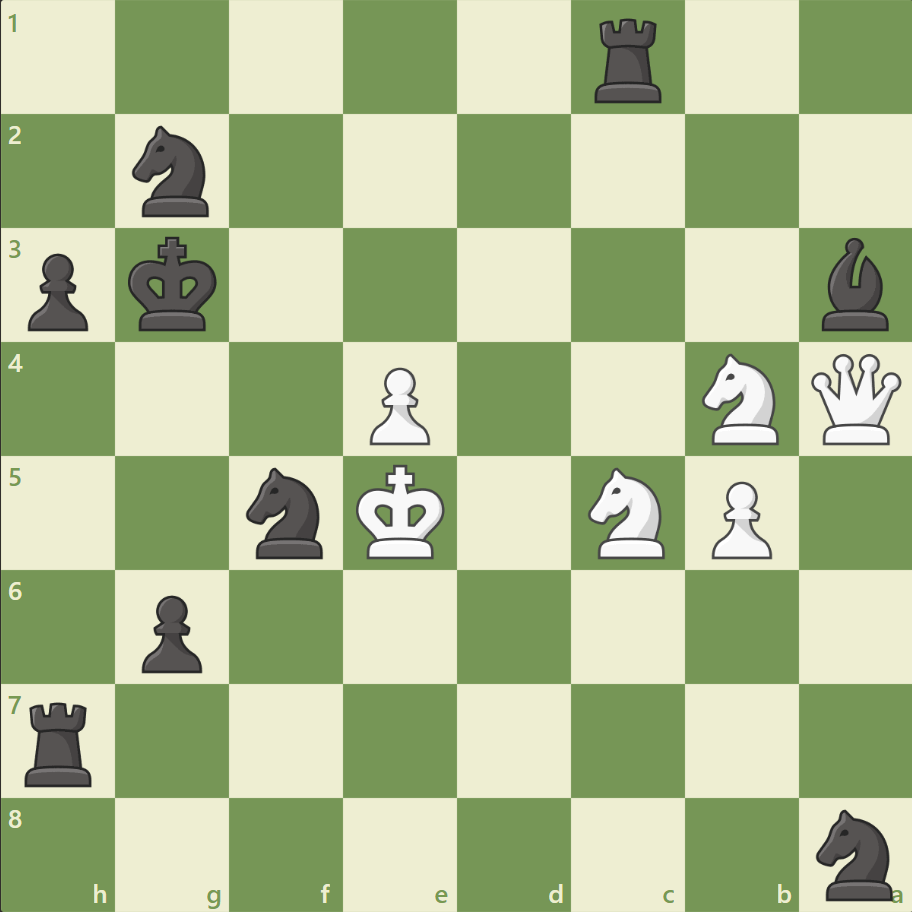K: (351, 458, 451, 566)
N: (579, 461, 676, 564), (692, 348, 789, 450)
P: (701, 473, 776, 564), (361, 359, 435, 450)
Q: (805, 349, 904, 449)
b: (812, 233, 896, 336)
k: (124, 231, 224, 339)
n: (124, 121, 222, 223), (238, 461, 335, 564), (806, 802, 903, 904)
p: (133, 586, 208, 677), (20, 246, 95, 337)
r: (19, 693, 102, 790), (587, 12, 670, 109)
